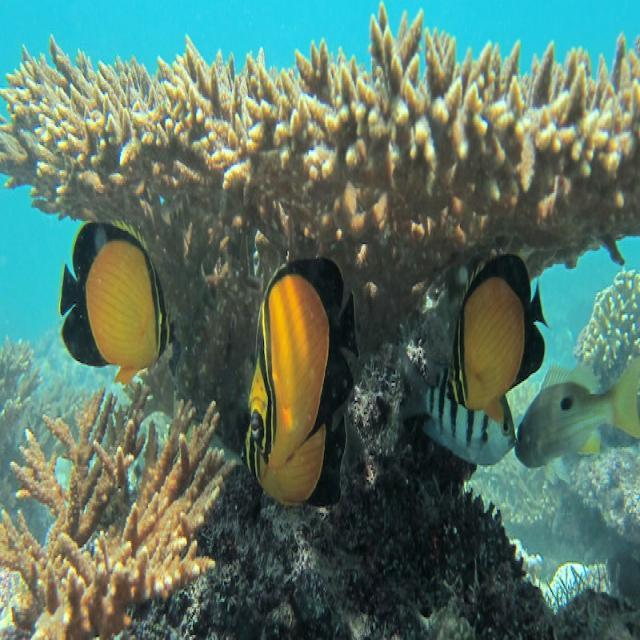ButterflyFish: (241, 255, 371, 428), (62, 215, 176, 393), (443, 248, 553, 415), (244, 410, 348, 508)
